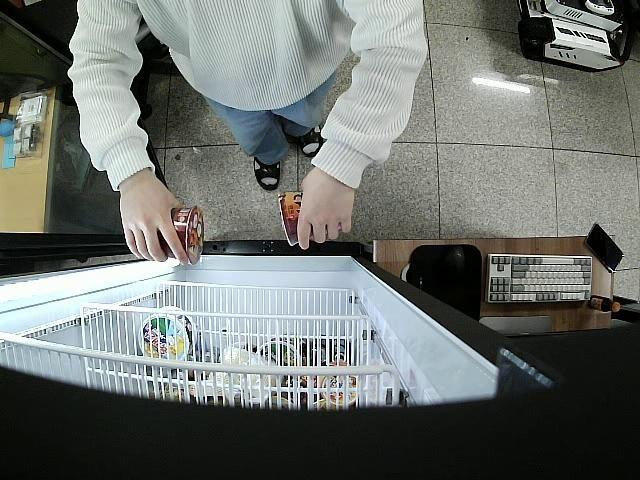06_nuguri_S: (278, 192, 346, 247), (154, 206, 203, 266)
